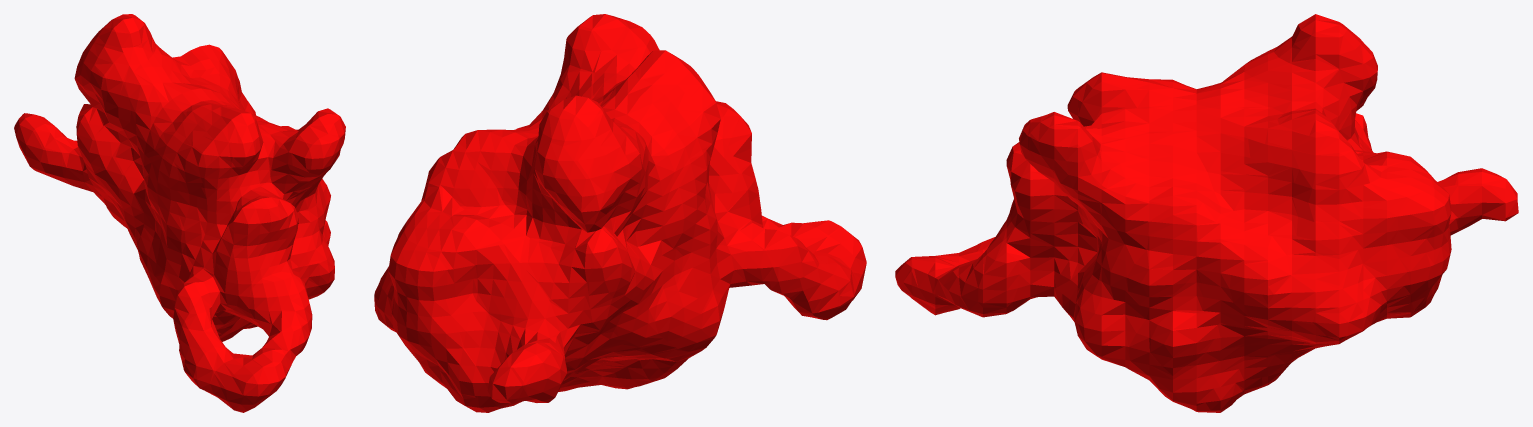
Rendered from cydA_coarse.dae.
The picture shows the model from 3 angles, left to right: view 1: azimuth 30°, elevation 25°; view 2: azimuth 150°, elevation 25°; view 3: azimuth 270°, elevation 25°; orthographic projection. The views are drawn at different scales.
Visible parts, largest first — view 1: cydA; view 2: cydA; view 3: cydA.
Part boxes in pixels (x1,y1,x2,y2): cydA: [14, 14, 345, 412]; cydA: [374, 14, 866, 412]; cydA: [895, 14, 1518, 412].
Size of the model in its own units: 53.84 by 64.67 by 108.
